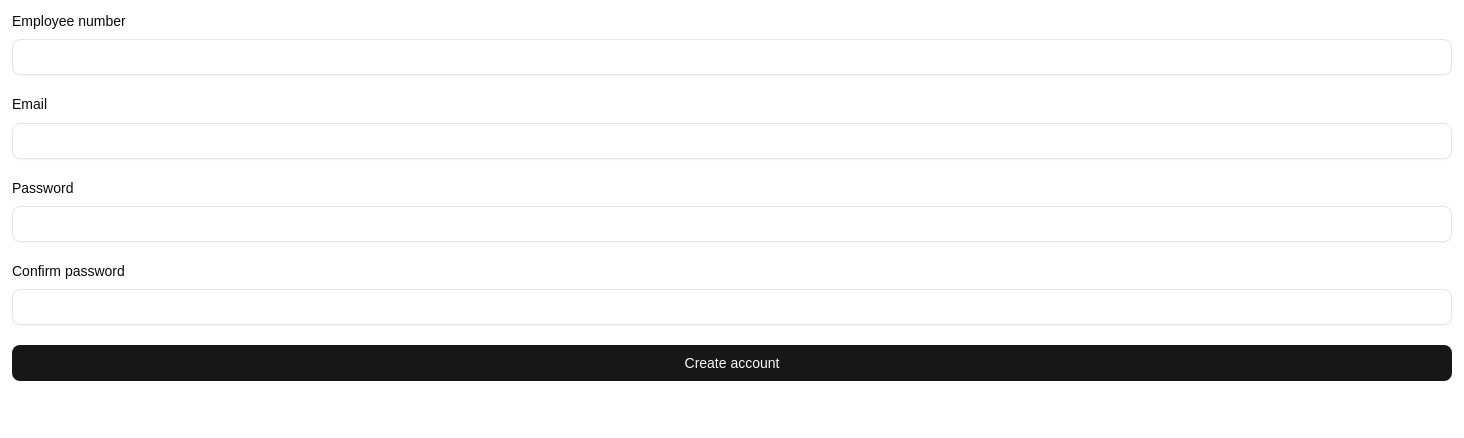
RegistrationForm › renders the generic duplicate-email message on a 409 conflict
In the field labelled "Employee number": (732, 57) x1=12 y1=39 x2=1452 y2=75, type "EMP001"
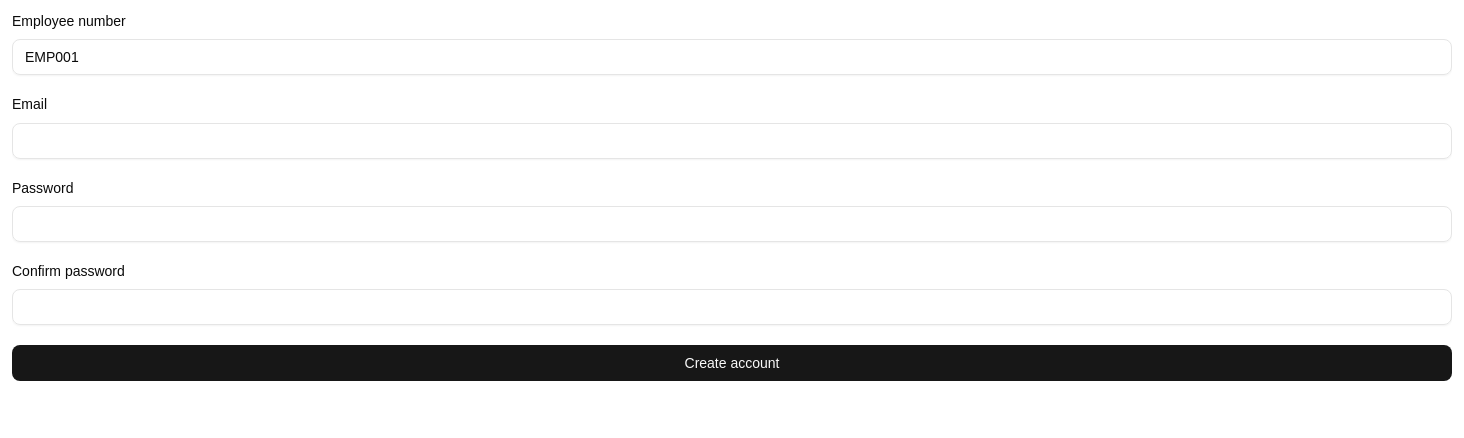
In the field labelled "Email": (732, 140) x1=12 y1=122 x2=1452 y2=158, type "a@b.com"
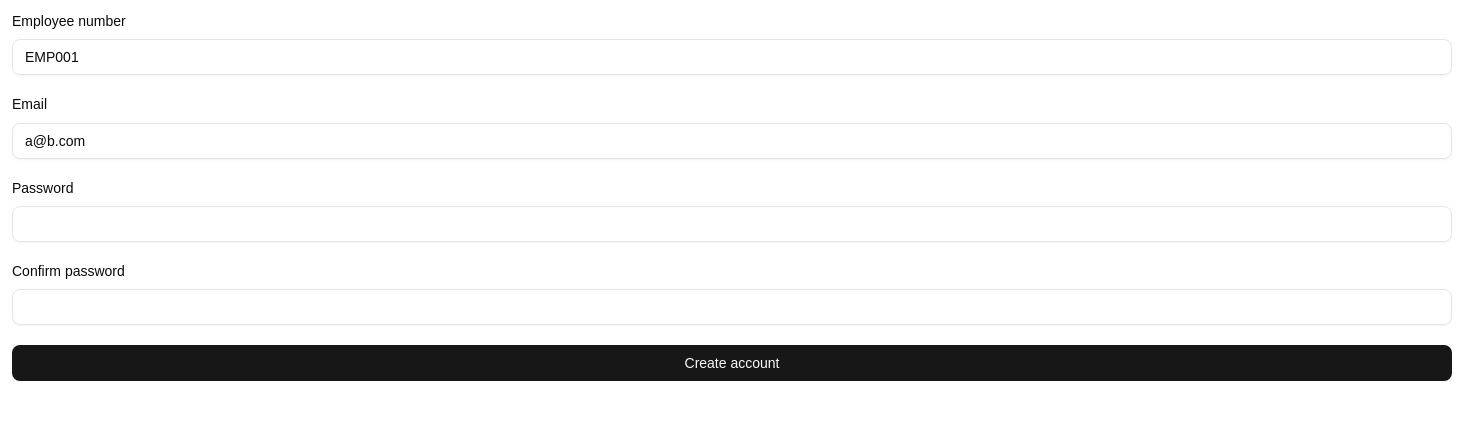
In the password field labelled "Password": (732, 224) x1=12 y1=206 x2=1452 y2=242, type "password1"
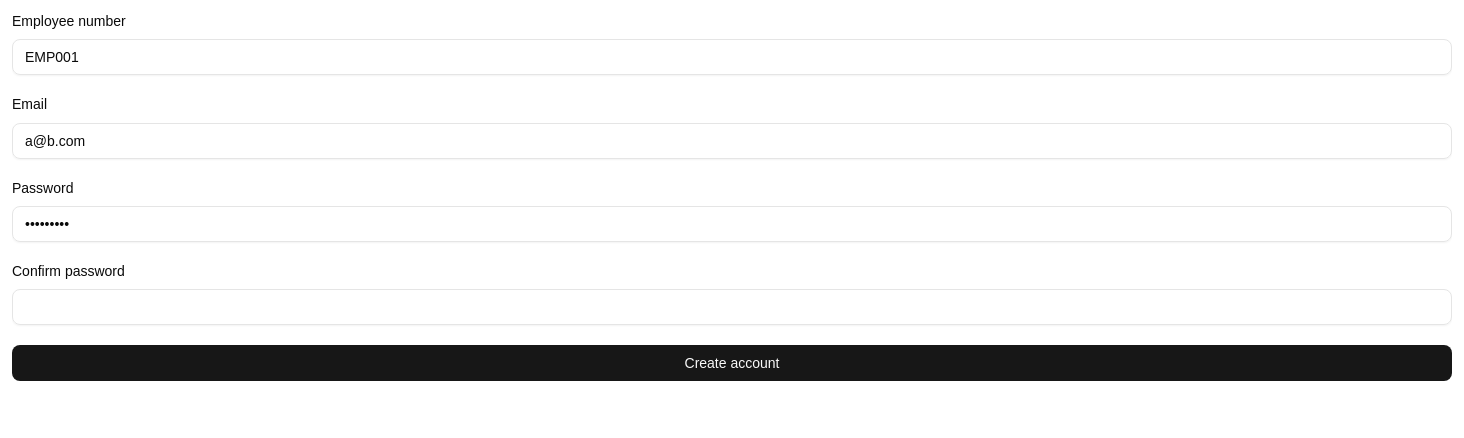
In the password field labelled "Confirm password": (732, 307) x1=12 y1=289 x2=1452 y2=325, type "password1"
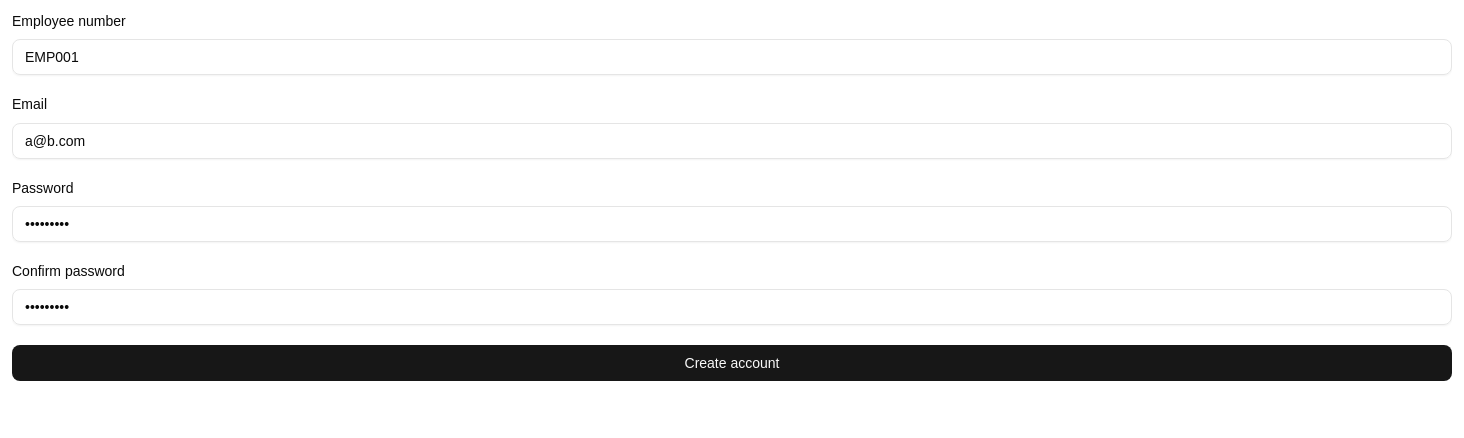
Click the button "Create account": (732, 363) x1=12 y1=345 x2=1452 y2=381
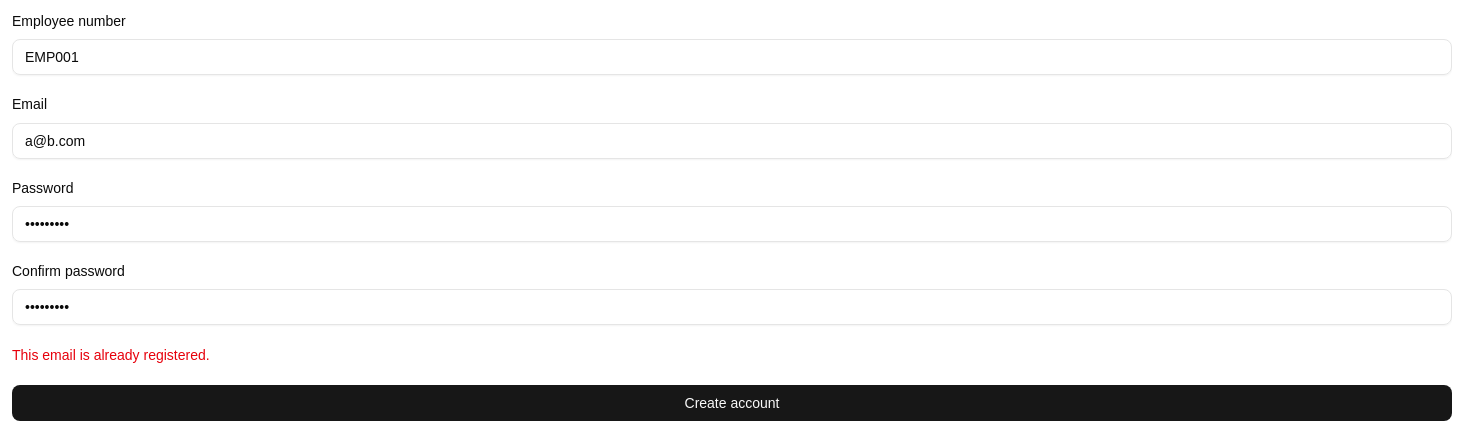
Result: the message reads "This email is already registered." at x1=12 y1=347 x2=210 y2=363
